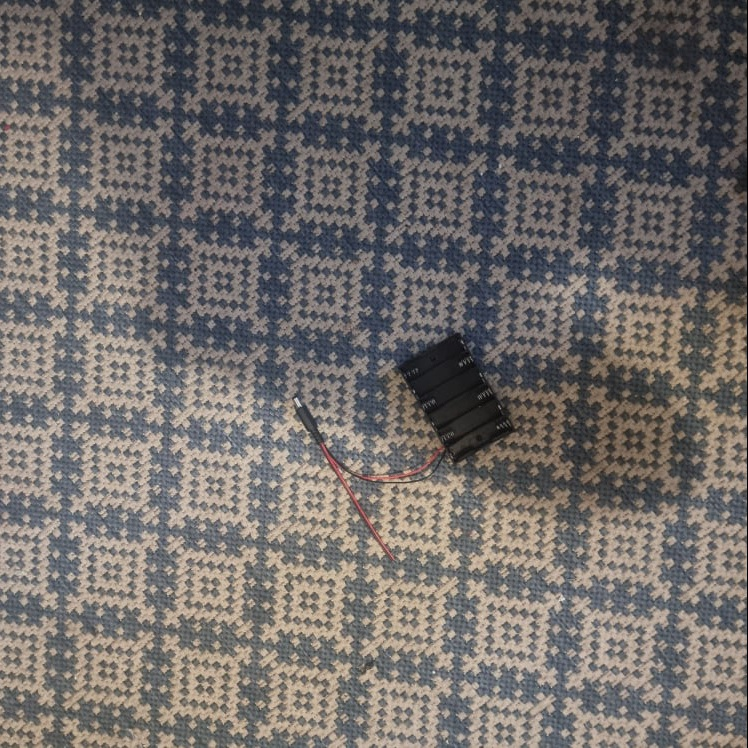BATTERY BOX: (400, 331, 518, 464)
